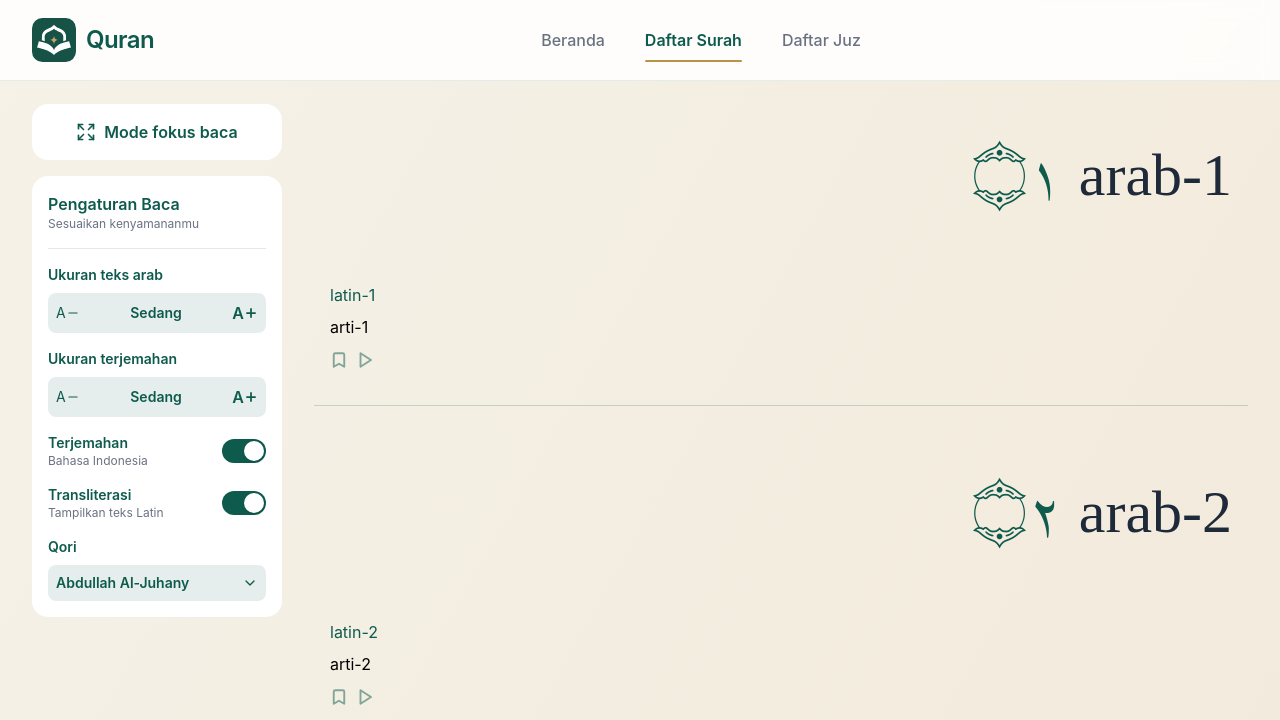
SurahDetailView › pemuatan data › mengambil ulang data saat id berubah dan menghentikan audio
(page scrolled)
Click the button without text below "arti-1": {"x": 365, "y": 360} [352,347,378,373]
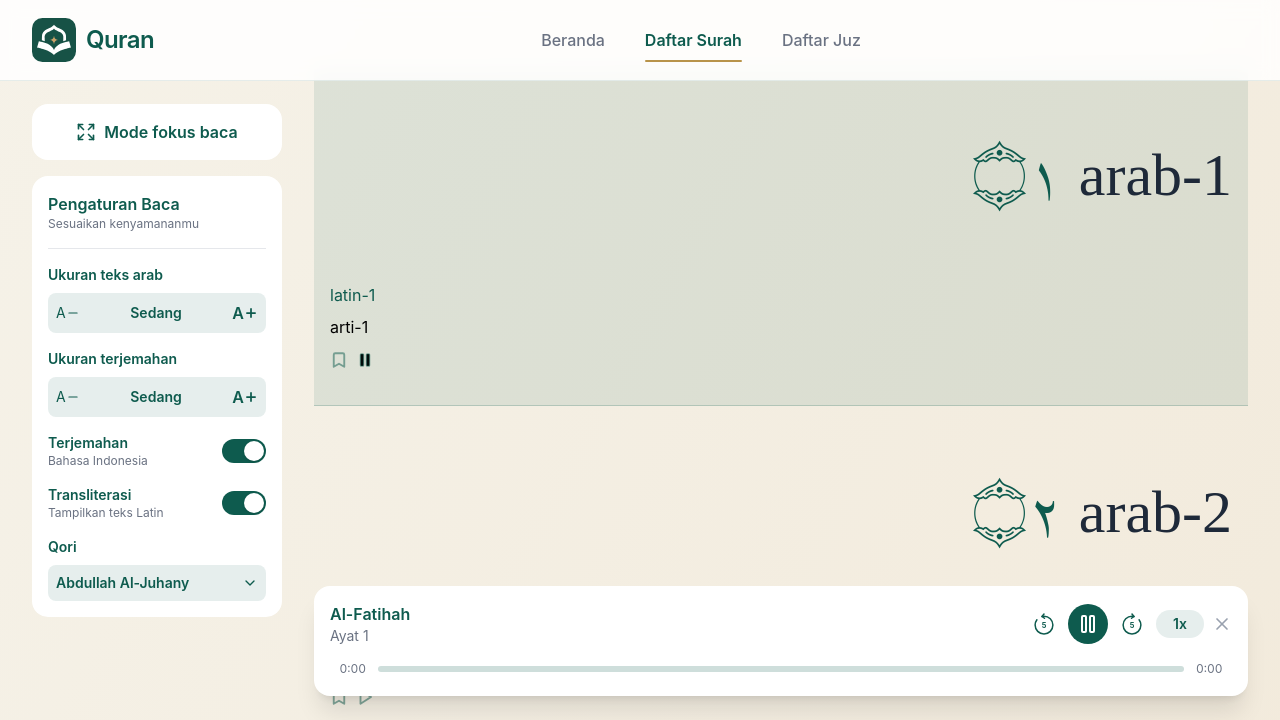
Check: the element showing "Al-Fatihah Ayat 1 5 5 1x 0:00 0:00" is shown, box [314,586,1248,696]
